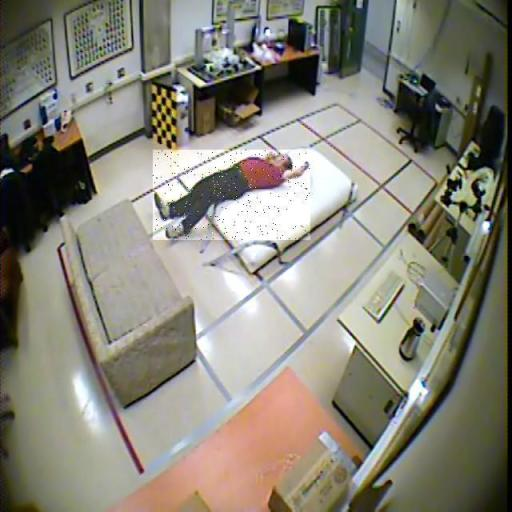Fall: (153, 150, 310, 240)
